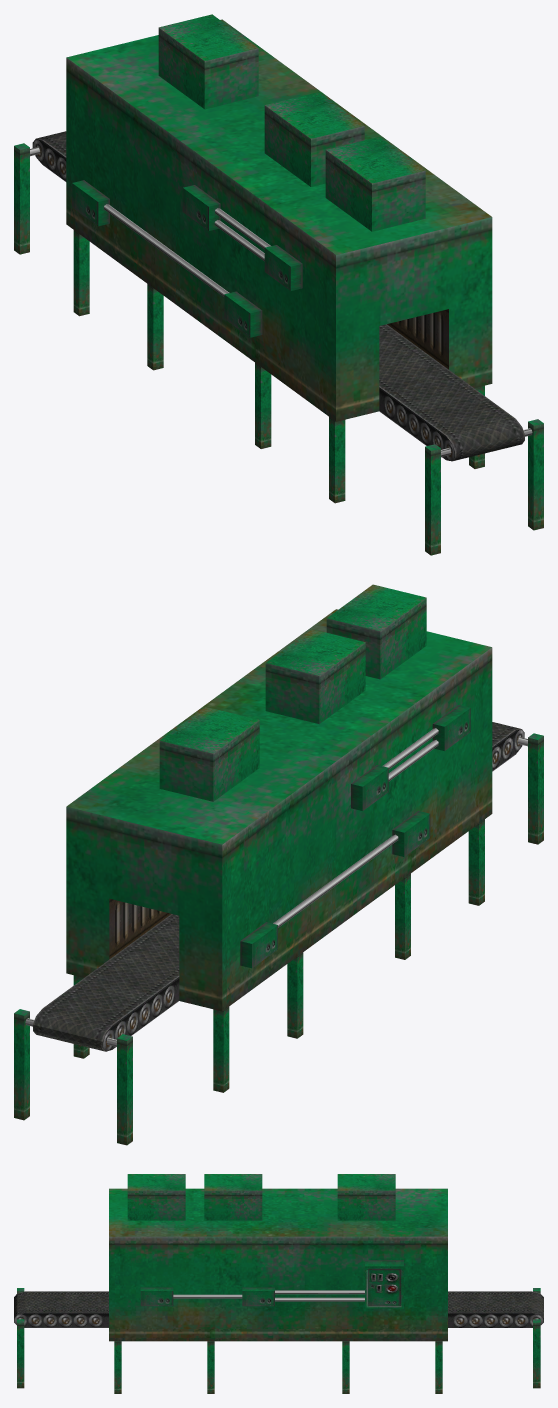
File: beltdryer.fbx
The picture shows the model from 3 angles, top to bottom: view 1: azimuth 30°, elevation 25°; view 2: azimuth 150°, elevation 25°; view 3: azimuth 270°, elevation 25°; orthographic projection. The views are drawn at different scales.
Parts seen in each view (by area): view 1: mesh_0; view 2: mesh_0; view 3: mesh_0.
Boxes of the visible parts, x1,y1,x2,y2 form: mesh_0: (14,14,543,555); mesh_0: (14,584,543,1145); mesh_0: (14,1174,543,1393).
Bounding box in the file's own units: 160 × 246 × 628.
1 material, 1 textured.
